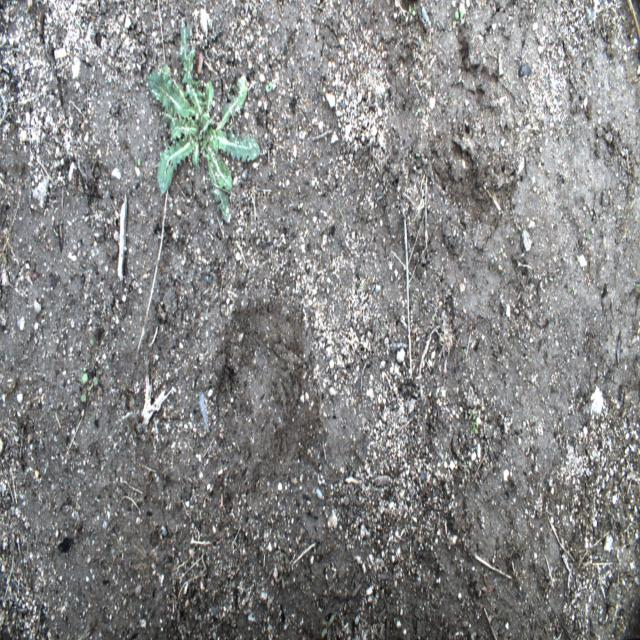weed: (144, 19, 260, 223)
